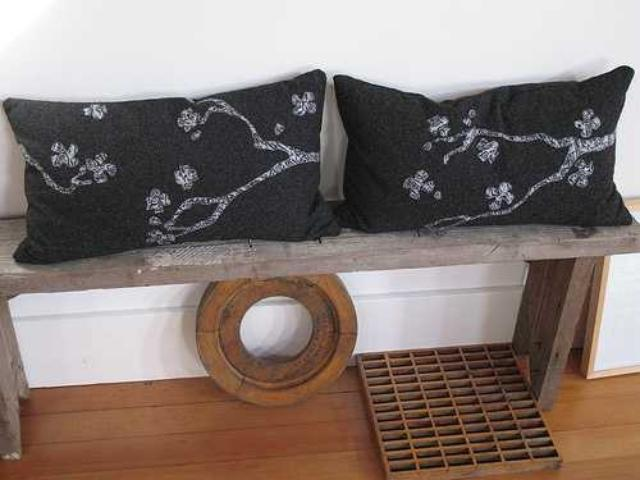pillow: (1, 66, 338, 264), (332, 64, 634, 234)
